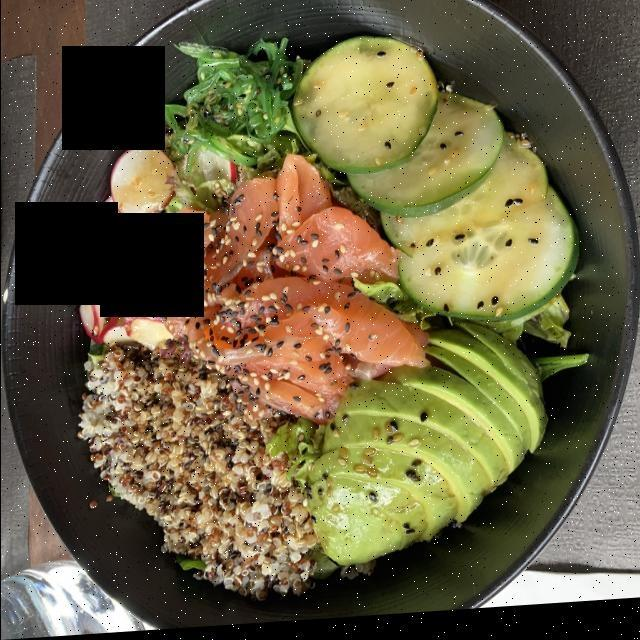avocado: (299, 336, 555, 569)
cucumber: (294, 44, 574, 326)
quinoa: (82, 350, 314, 596)
radish: (77, 149, 176, 347)
salmon: (174, 166, 417, 422)
sesame-seeds: (168, 217, 347, 403)
